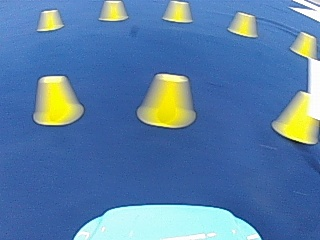cone: (138, 72, 195, 128), (33, 74, 81, 126), (272, 91, 317, 143), (289, 31, 316, 59), (228, 11, 257, 37), (163, 1, 192, 22), (99, 0, 127, 21), (37, 8, 62, 31)
